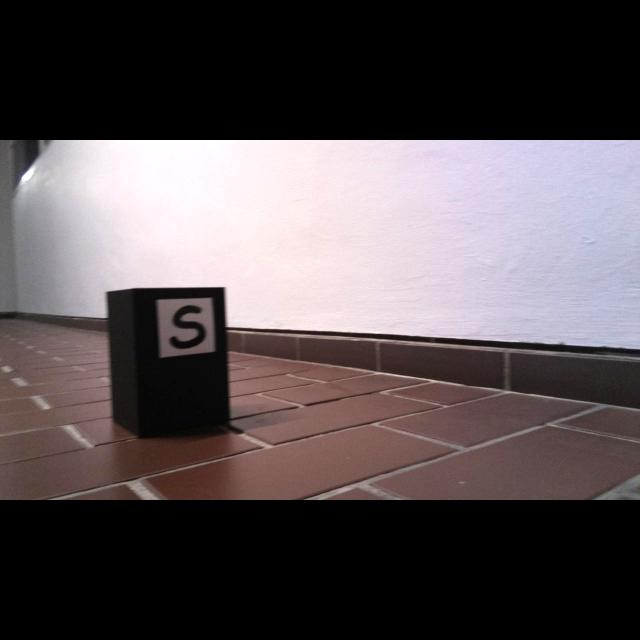S: (170, 305, 206, 350)
